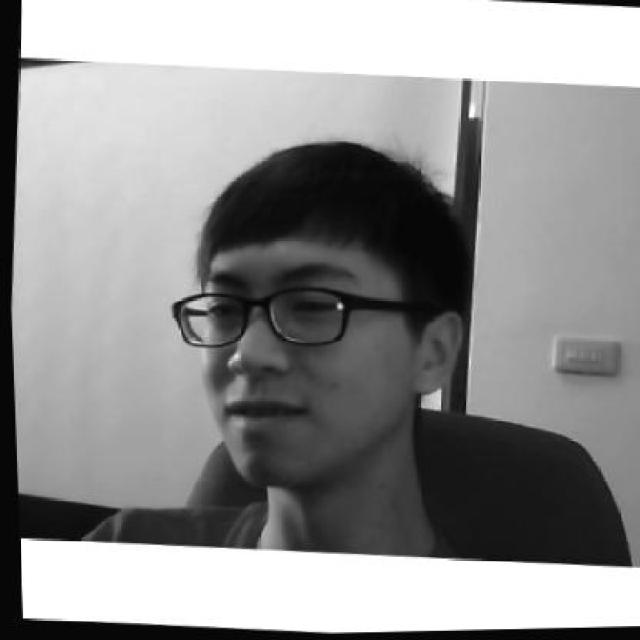attentif: (156, 128, 478, 503)
